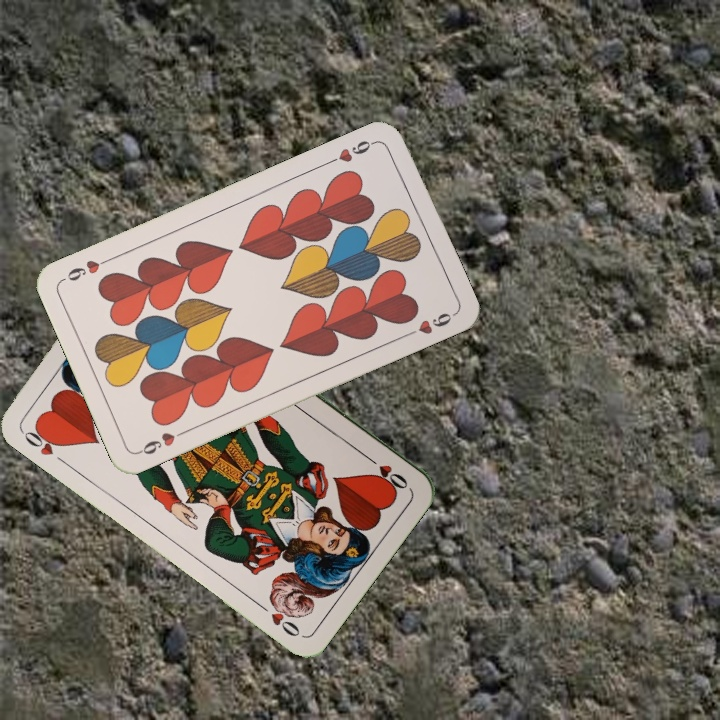H9: (134, 425, 190, 457), (324, 136, 380, 167)
HO: (361, 451, 411, 492), (18, 421, 67, 458)
